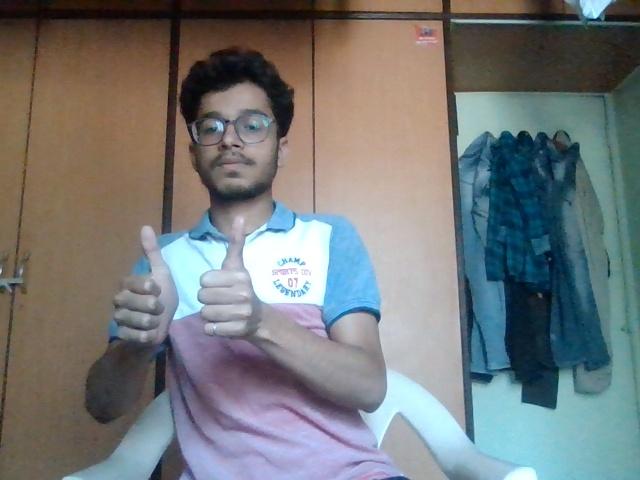thank-you: (111, 206, 265, 356)
